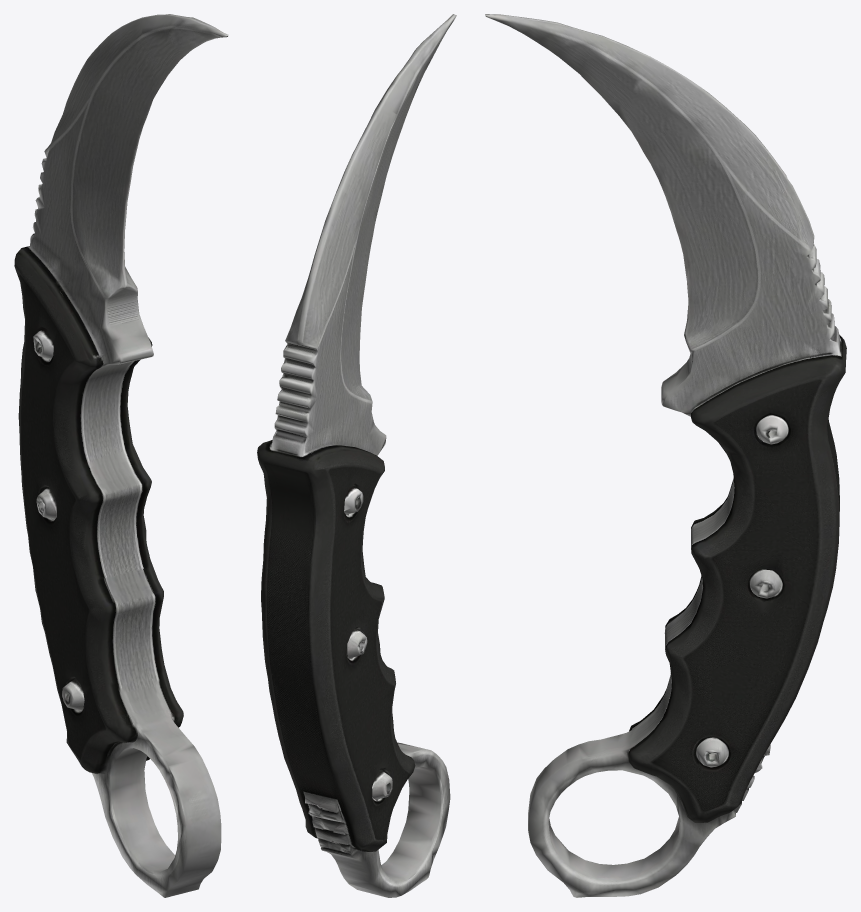
The model's file is karambit.glb.
3 renders of one model, left to right at view 1: azimuth 30°, elevation 25°; view 2: azimuth 150°, elevation 25°; view 3: azimuth 270°, elevation 25°, orthographic. The views are drawn at different scales.
Visible parts, largest first — view 1: karambit; view 2: karambit; view 3: karambit.
Part boxes in pixels (box(x1,y1,x2,y2)): karambit: box(14, 14, 228, 897); karambit: box(257, 14, 456, 897); karambit: box(485, 14, 846, 897).
Size of the model in its own units: 0.0206 by 0.2 by 0.0748.
Materials: 1 (1 with a texture image).
